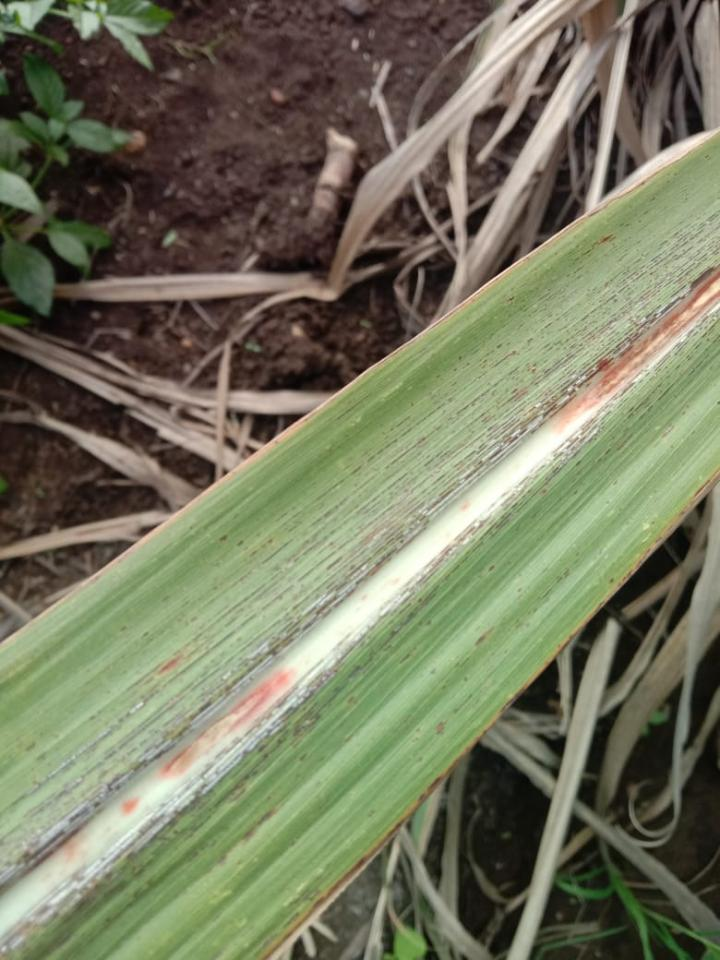RedRot: (542, 264, 719, 434), (156, 664, 298, 781), (120, 795, 141, 817)
Rust: (0, 200, 719, 895), (0, 295, 719, 959), (211, 802, 282, 871)
